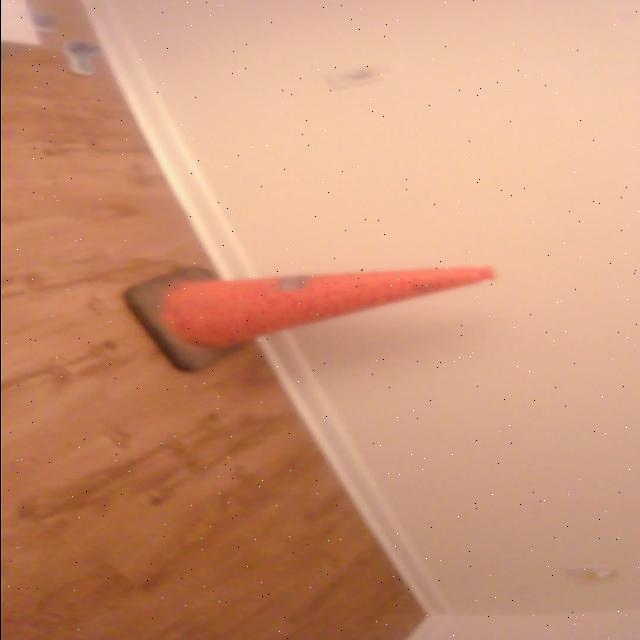traffic cone: (116, 262, 503, 377)
